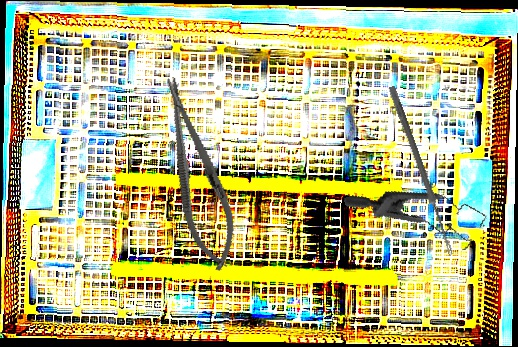Needle Holder: (148, 71, 247, 276)
Speculum: (343, 156, 495, 282)
Surgical Spoon: (387, 85, 456, 257)
